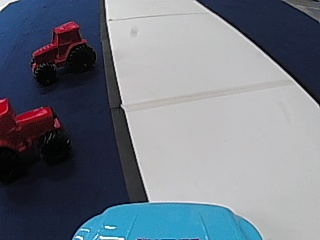tractor: (0, 99, 71, 169), (29, 19, 94, 84)
